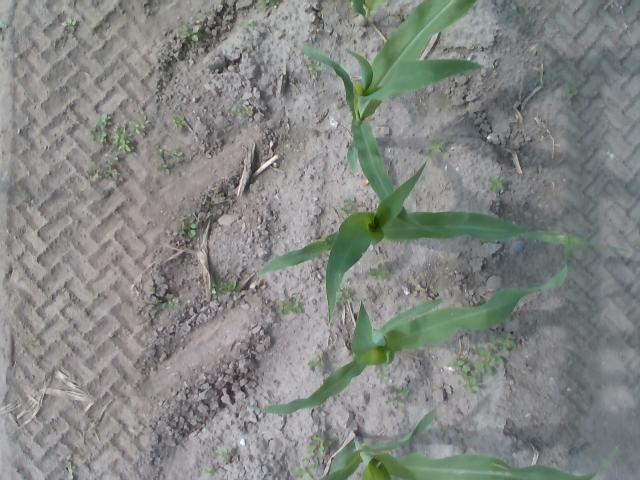Maize: (259, 160, 630, 331), (238, 233, 570, 414), (296, 0, 489, 233), (314, 407, 622, 480), (349, 0, 388, 27)
Weeds: (446, 332, 515, 394), (88, 108, 154, 153), (82, 154, 122, 186), (154, 142, 183, 175), (305, 433, 334, 463), (424, 138, 450, 159), (176, 216, 198, 240), (277, 297, 304, 316), (386, 388, 411, 408), (210, 280, 240, 296), (332, 196, 358, 213), (306, 353, 326, 374), (216, 444, 236, 465), (368, 264, 390, 282), (486, 174, 506, 193), (153, 296, 180, 310), (292, 466, 318, 480), (180, 24, 199, 42), (230, 104, 254, 118), (204, 197, 222, 215), (62, 18, 79, 35), (562, 86, 578, 104), (170, 114, 188, 130), (337, 290, 353, 307), (306, 60, 323, 76), (202, 466, 220, 478), (376, 366, 391, 380), (258, 0, 282, 8), (211, 184, 221, 194), (93, 26, 105, 34), (247, 18, 256, 26), (590, 91, 599, 98), (150, 286, 156, 296), (0, 20, 6, 29)
